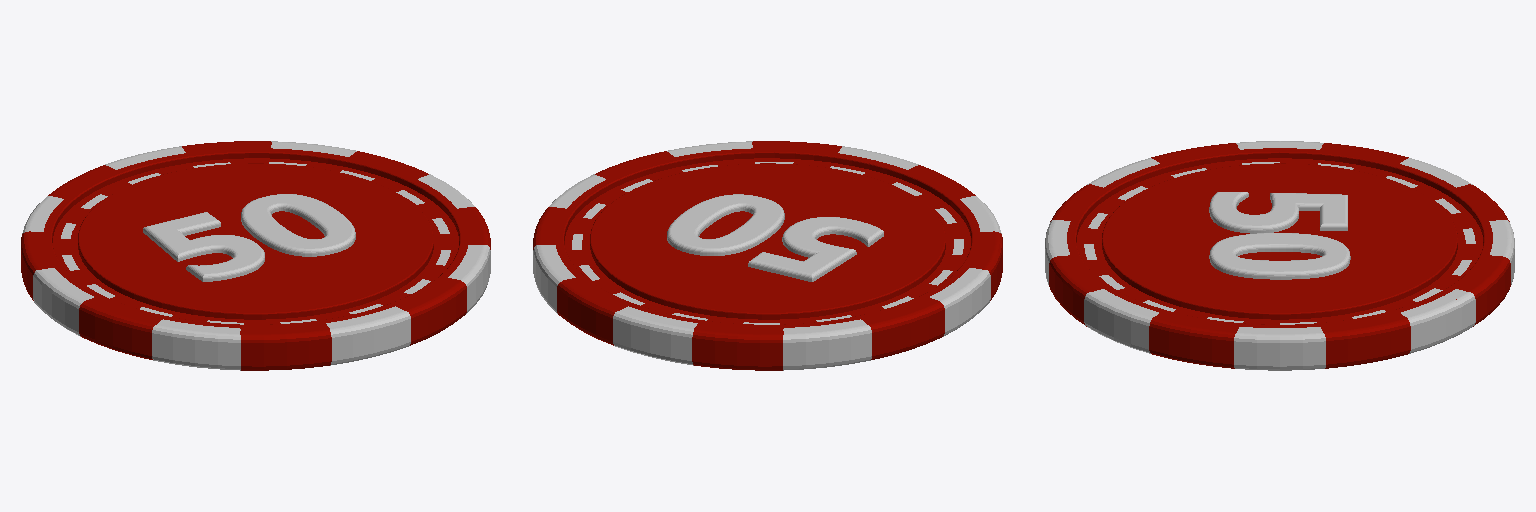
The model's file is poker_chip_50.obj.
3 views of the same model, side by side, from view 1: azimuth 30°, elevation 25°; view 2: azimuth 150°, elevation 25°; view 3: azimuth 270°, elevation 25° (orthographic).
Parts seen in each view (by area): view 1: obj1, obj2, obj3; view 2: obj1, obj2, obj3; view 3: obj1, obj2, obj3.
Boxes of the visible parts, <box> form: obj1: <box>21,141,490,370</box>; obj2: <box>22,141,490,370</box>; obj3: <box>143,194,355,281</box>; obj1: <box>533,141,1002,370</box>; obj2: <box>533,141,1001,370</box>; obj3: <box>667,194,883,281</box>; obj1: <box>1049,143,1510,368</box>; obj2: <box>1045,141,1514,370</box>; obj3: <box>1209,192,1350,279</box>.
Size of the model in its own units: 0.0802 by 0.0091 by 0.0802.